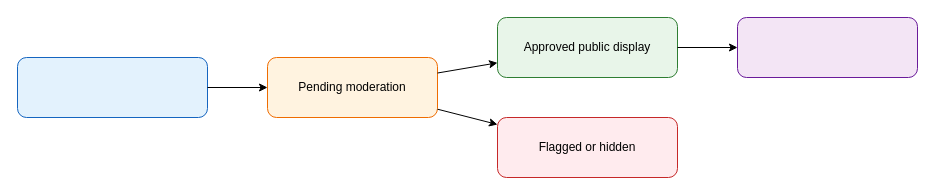
The diagram is 935 pixels wide and 195 high, and some of its shapes have lost their labels. The shapes that lost their labels are listed below. From the top down, each one's centre as x and y in pixels, then its label:
point (827, 47): Owner response audited
point (112, 87): Customer submits eligible review
